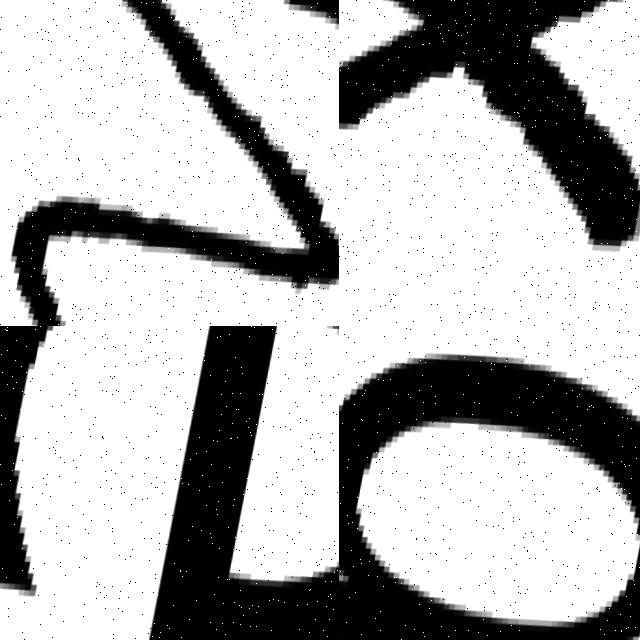E: (159, 326, 339, 640)
G: (339, 326, 640, 640)
N: (0, 0, 339, 326)
X: (339, 0, 640, 326)
